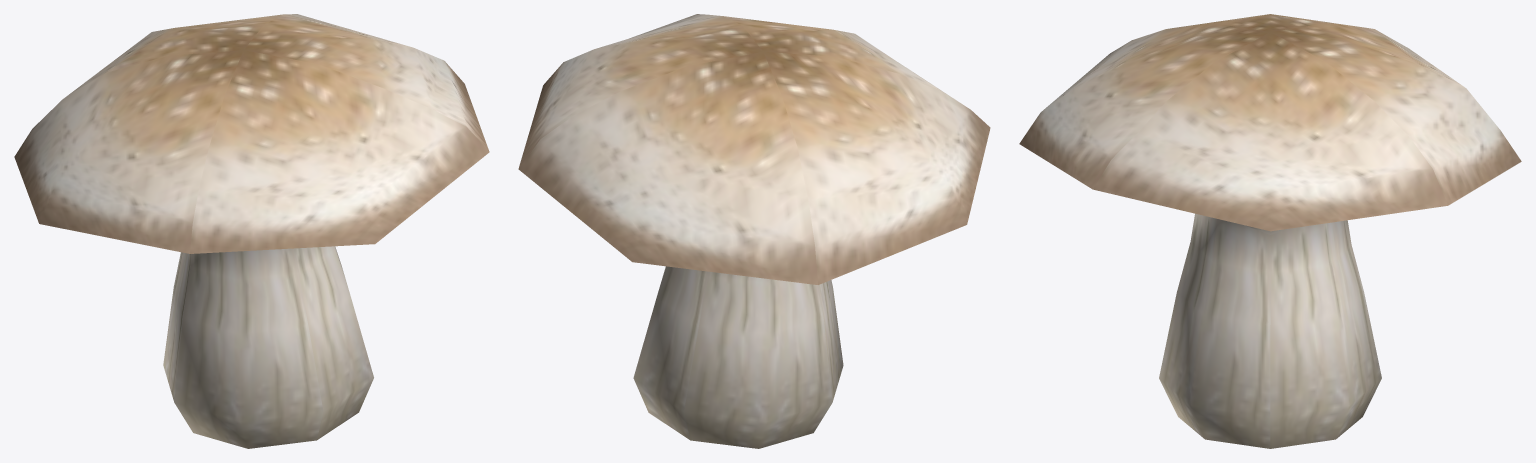
File: pir_m_prp_cav_mushroom_1.fbx
3 views of the same model, side by side, from view 1: azimuth 30°, elevation 25°; view 2: azimuth 150°, elevation 25°; view 3: azimuth 270°, elevation 25° (orthographic). The views are drawn at different scales.
Visible parts, largest first — view 1: top, stem; view 2: top, stem; view 3: top, stem.
Boxes of the visible parts, x1=… form: top: x1=14, y1=14, x2=489, y2=253; stem: x1=163, y1=246, x2=373, y2=448; top: x1=518, y1=14, x2=990, y2=284; stem: x1=633, y1=266, x2=843, y2=448; top: x1=1019, y1=14, x2=1521, y2=231; stem: x1=1159, y1=213, x2=1381, y2=448.
Size of the model in its own units: 265 by 220 by 266.
Materials: 1 (1 with a texture image).
